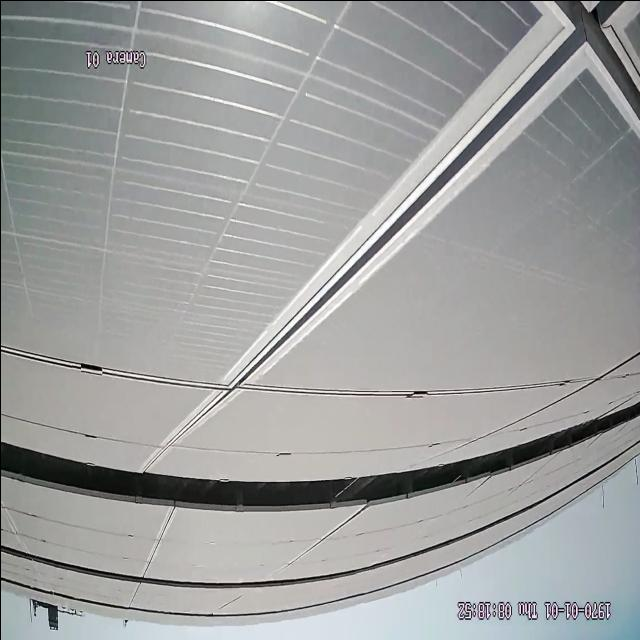interior panel: (5, 14, 637, 469), (274, 512, 359, 573), (142, 517, 177, 571)
outher panel: (2, 400, 640, 509)
